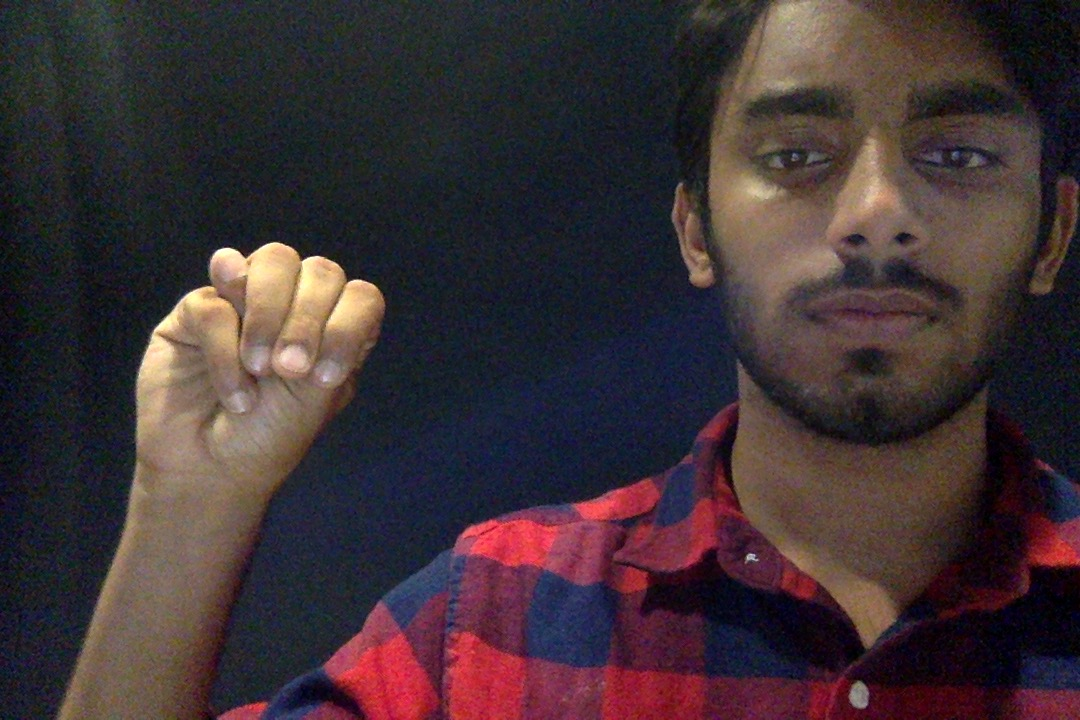m: (96, 209, 394, 584)
